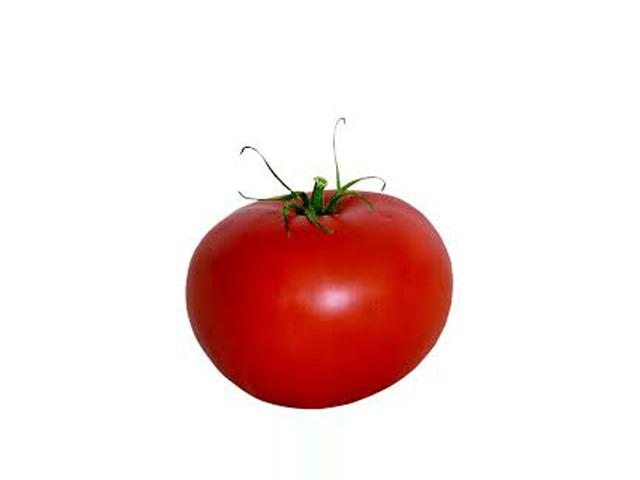tomato: (186, 188, 455, 408)
